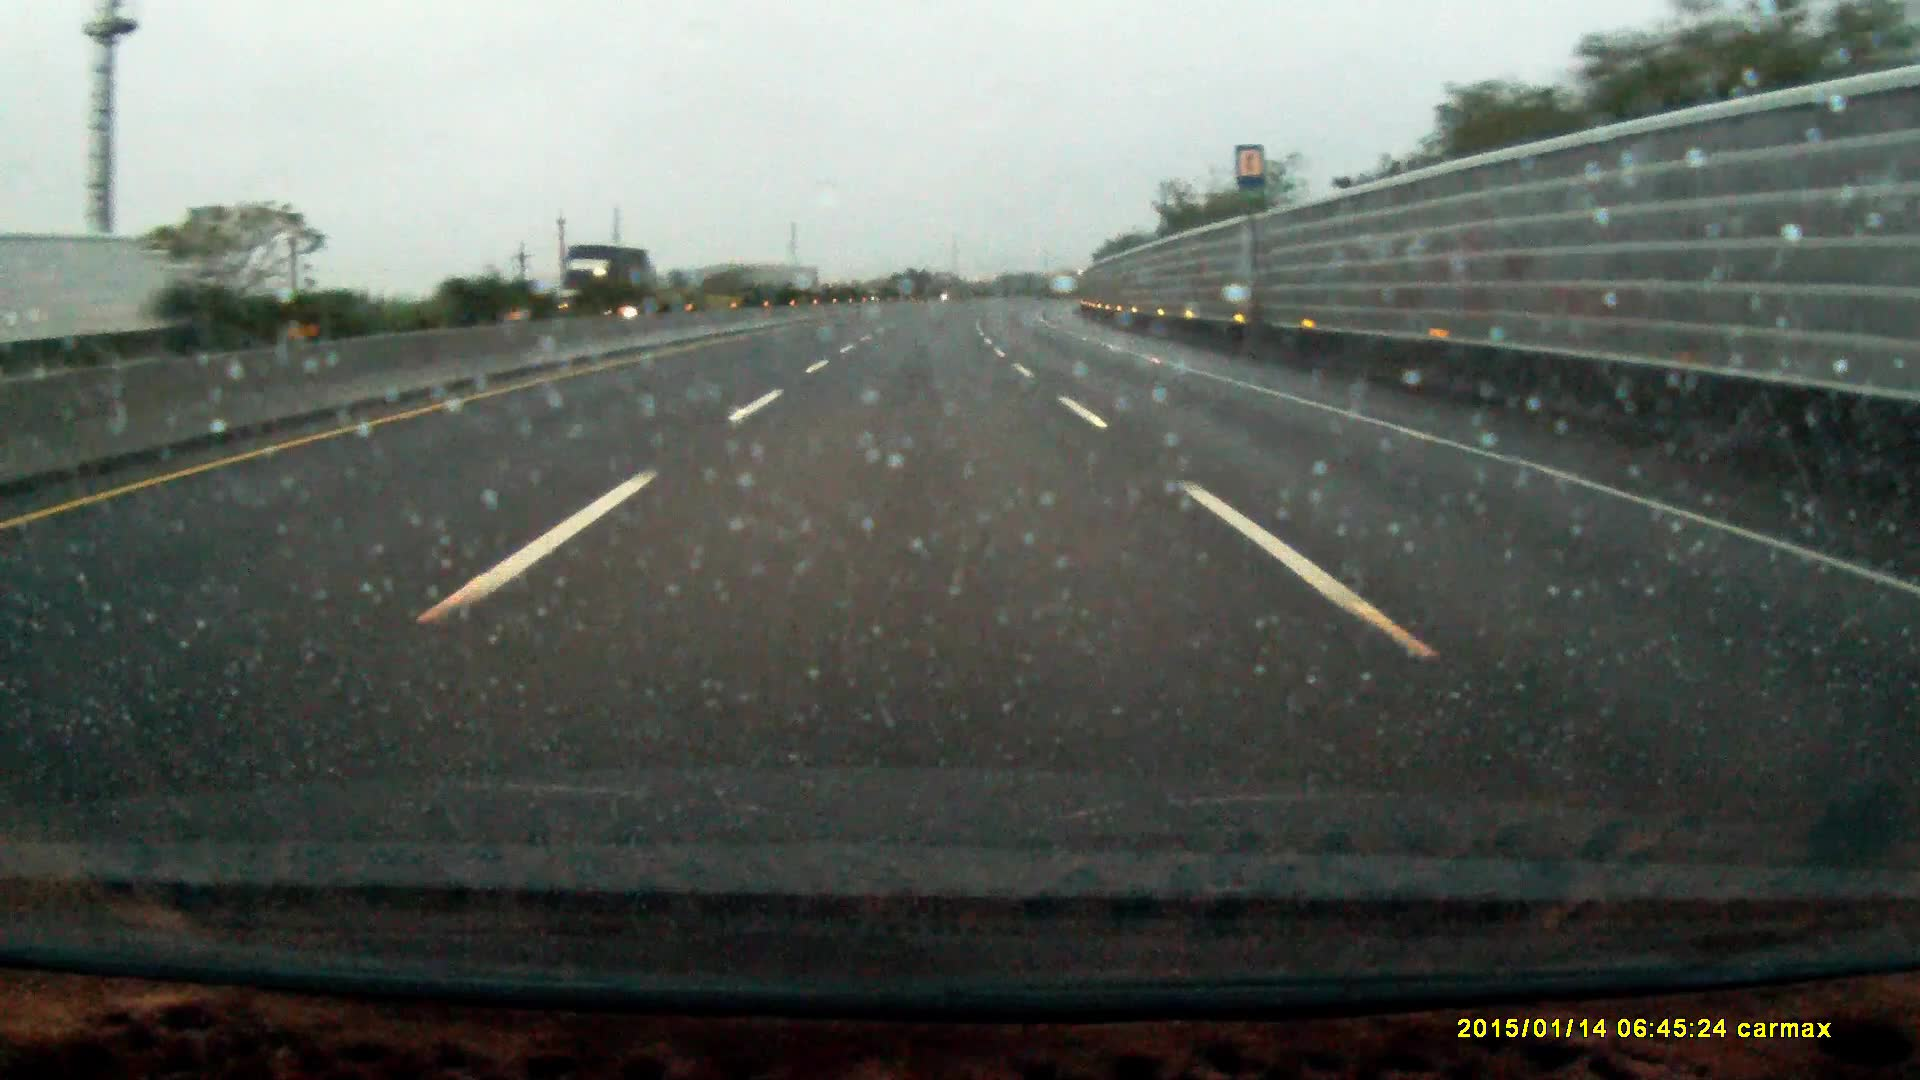vehicle: (564, 244, 650, 318)
